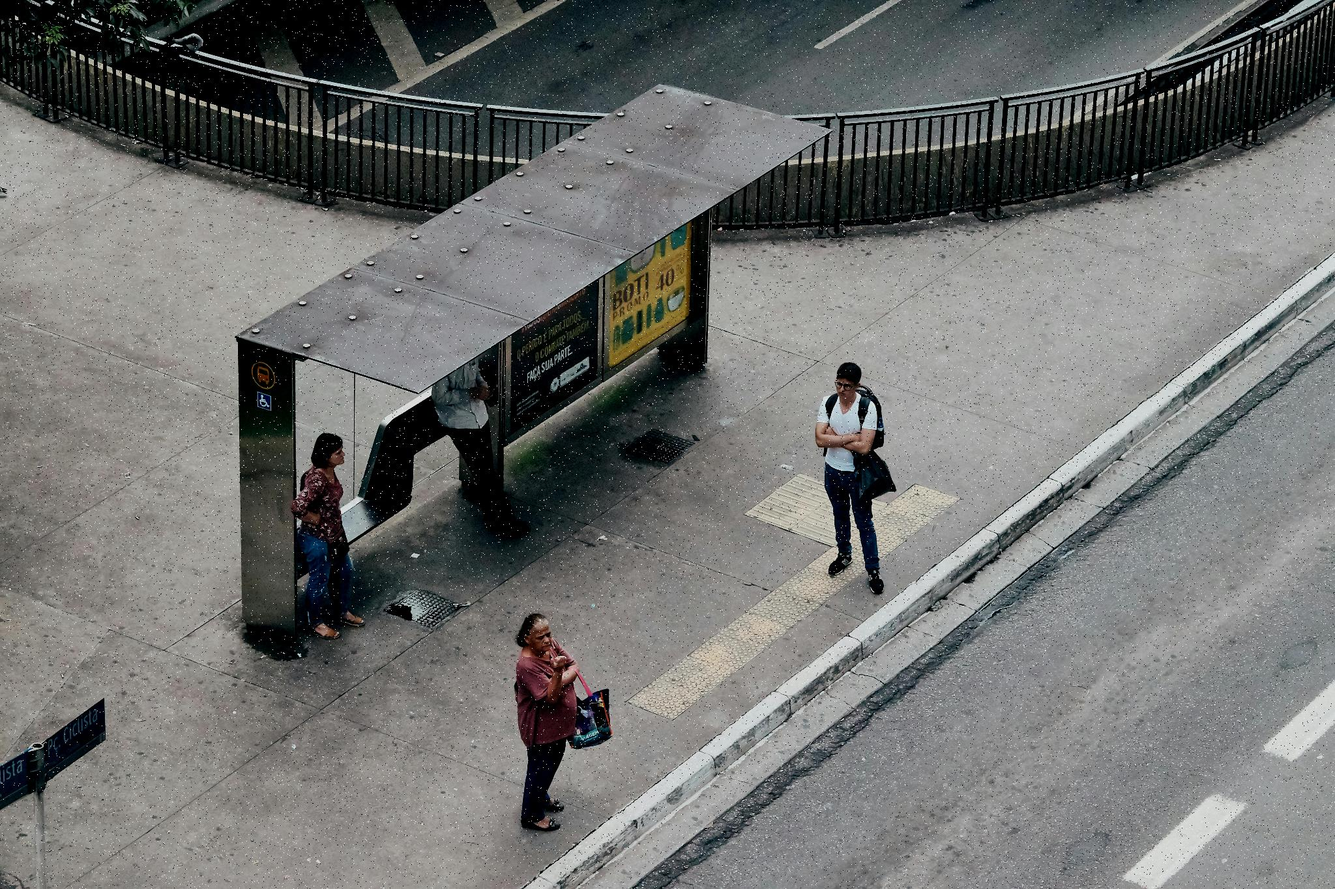pedestrian: (813, 361, 902, 596), (510, 613, 603, 832), (290, 432, 368, 639)
